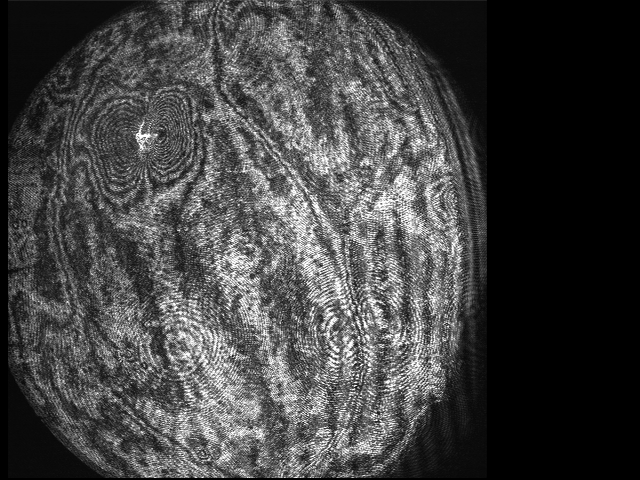plume: (100, 89, 195, 203)
